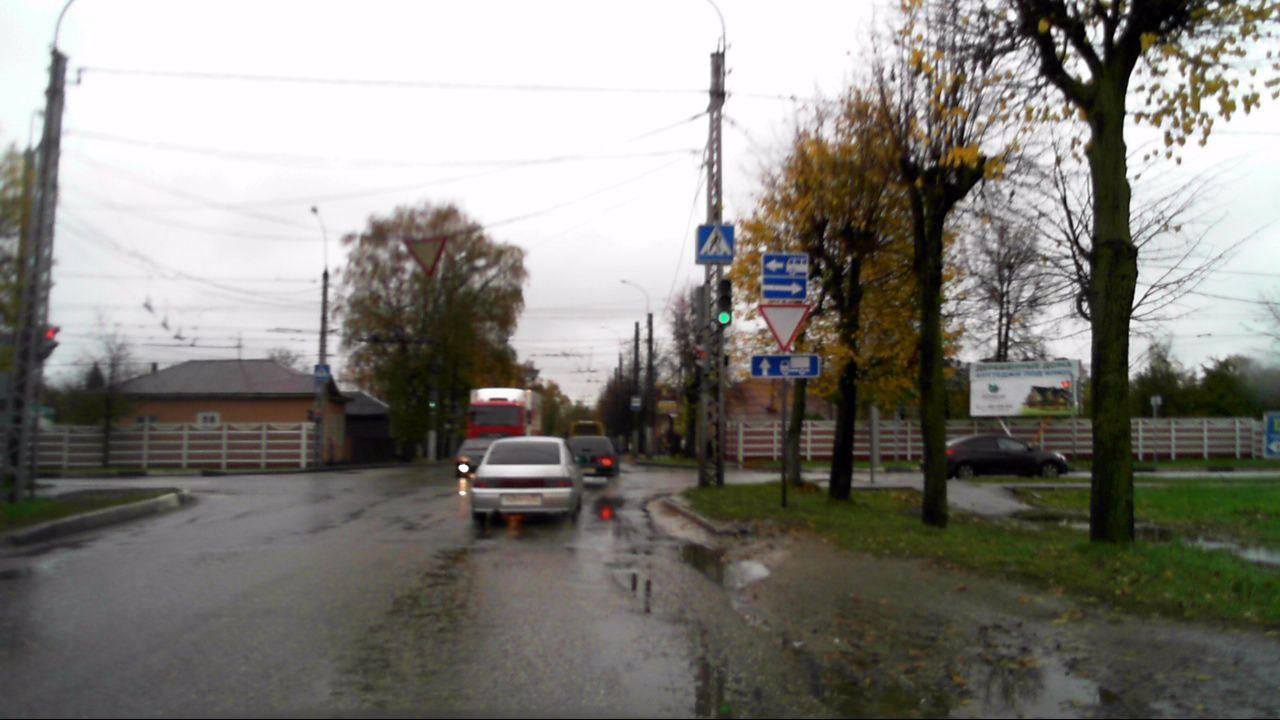2_4: (757, 302, 807, 351), (403, 238, 446, 275)
5_13_1: (762, 254, 807, 298)
5_19_1: (697, 223, 734, 266)
5_19_2: (312, 364, 331, 381)
6_15_1: (752, 356, 822, 378)
